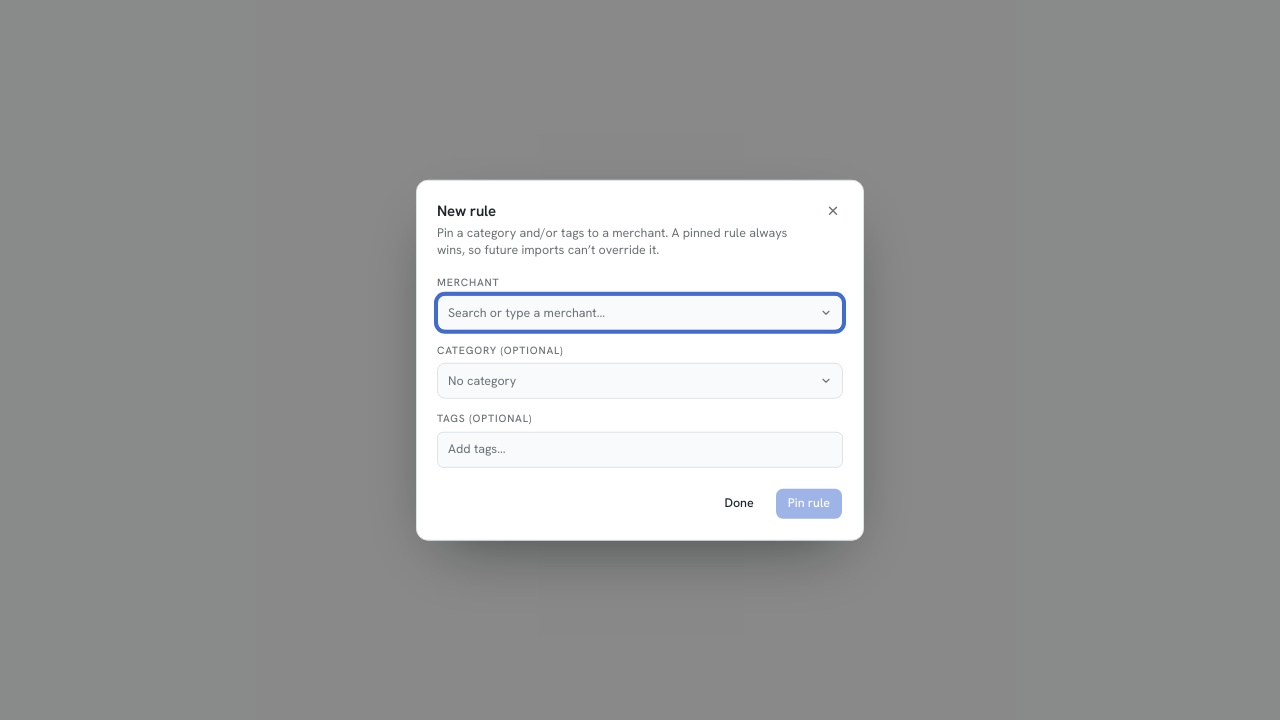
Test: NewRuleDialog (app/settings/rules/new-rule-dialog.tsx) › displays server error message when pin rule fails
This screenshot has width=1280, height=720.
Click the button "Search or type a merchant…" at (526, 312), box [437,295,843,331]
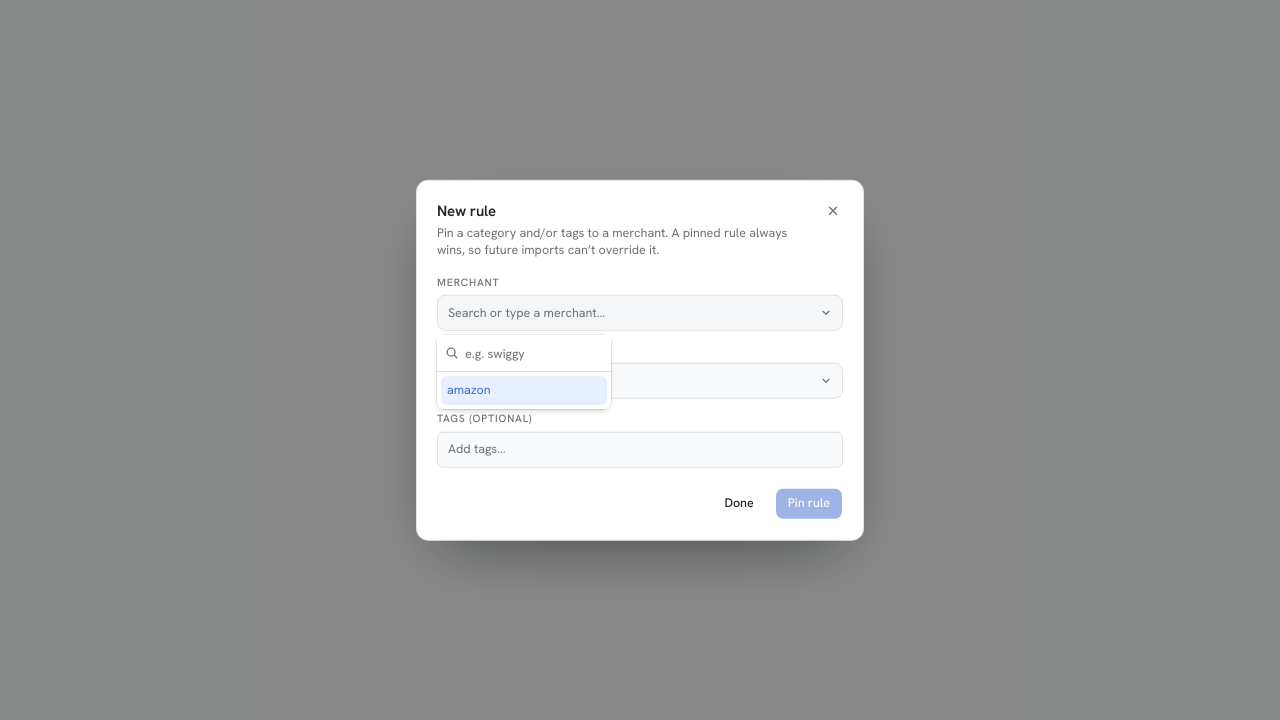
Click the option "amazon" at (524, 390), box [441,376,607,405]
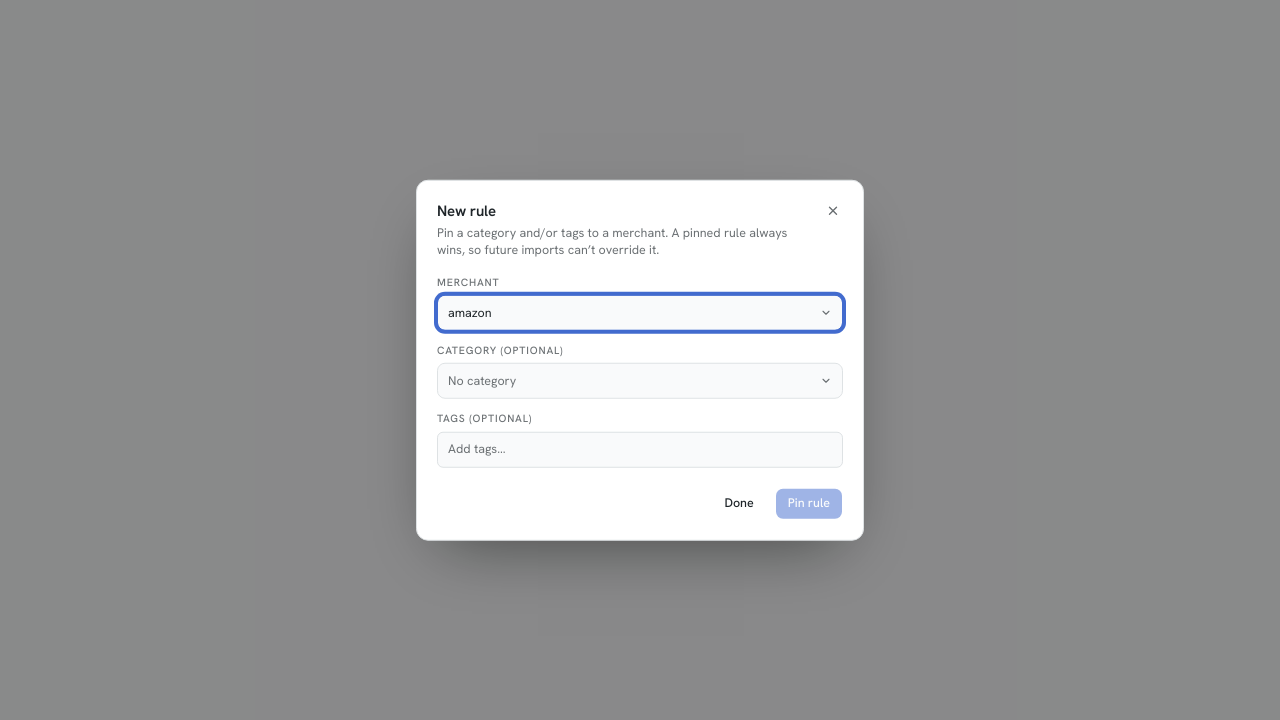
Click the button "No category" at (482, 380), box [437,363,843,399]
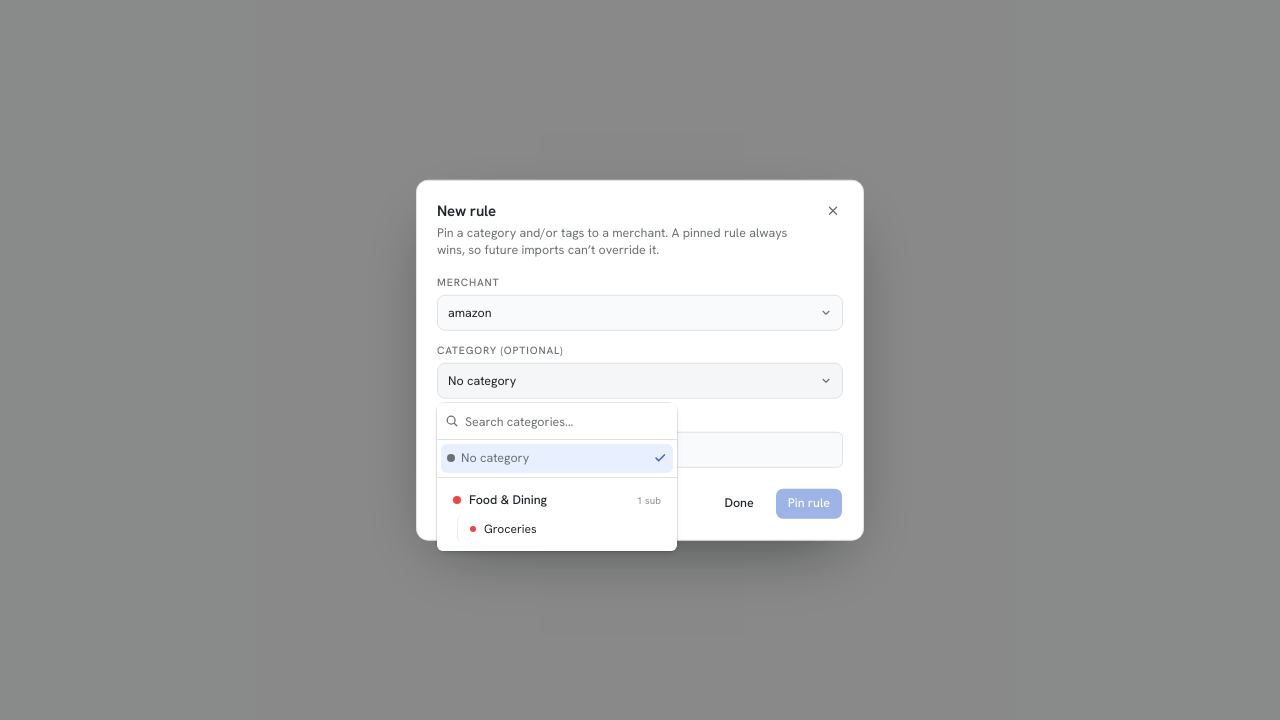
Click the text "Food & Dining" at (508, 499), box [469,491,547,508]
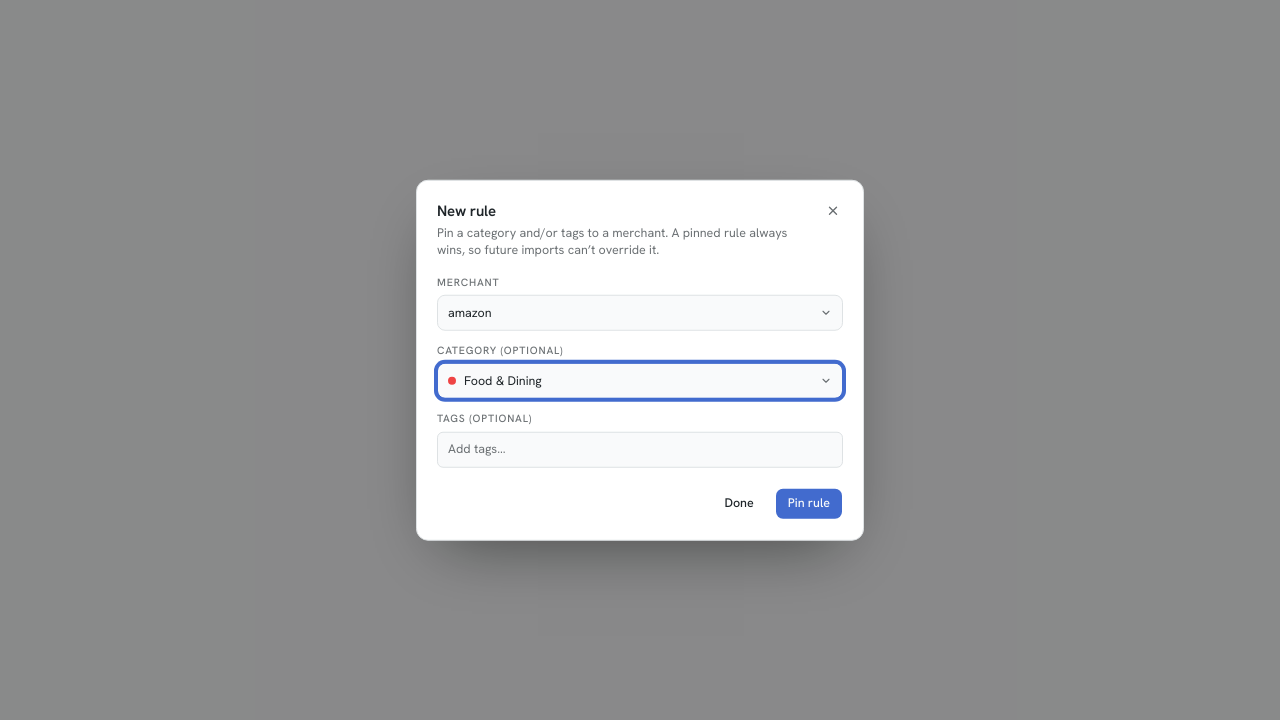
Click the button "Pin rule" at (809, 503), box [775,487,843,519]
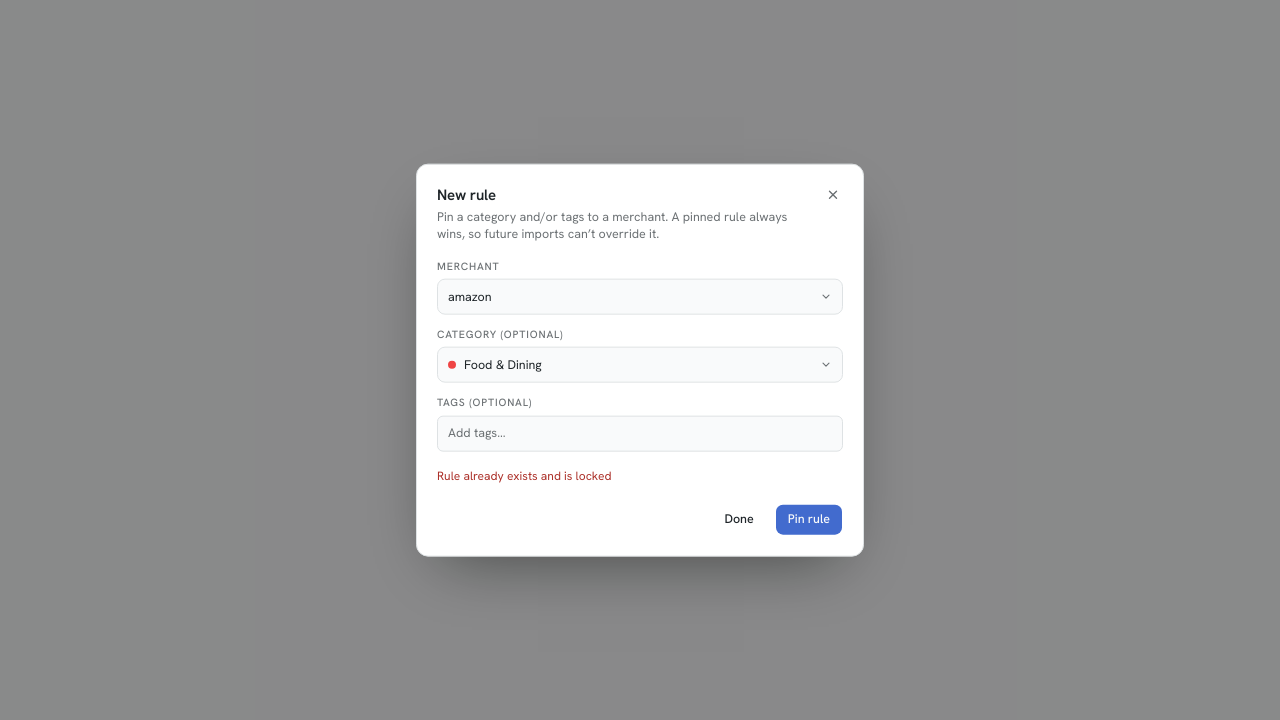
Expected: the text "Rule already exists and is locked" is shown, [437,467,612,483]
